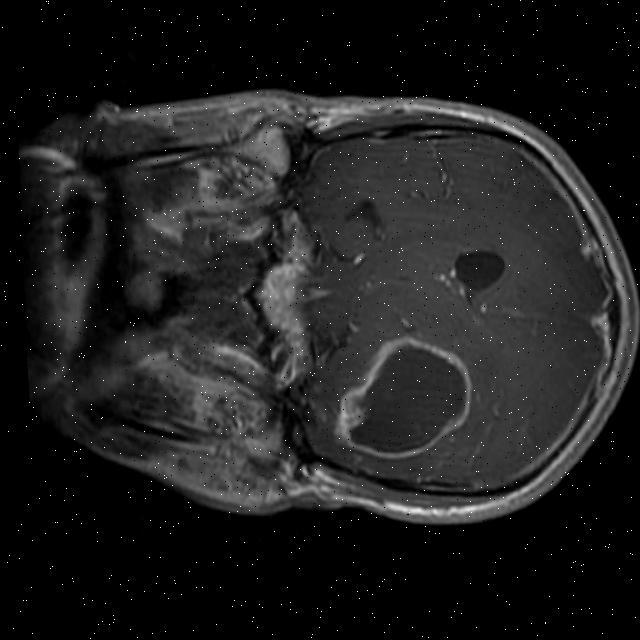Glioma: (324, 332, 478, 467)
Pituitary: (251, 259, 307, 333)
